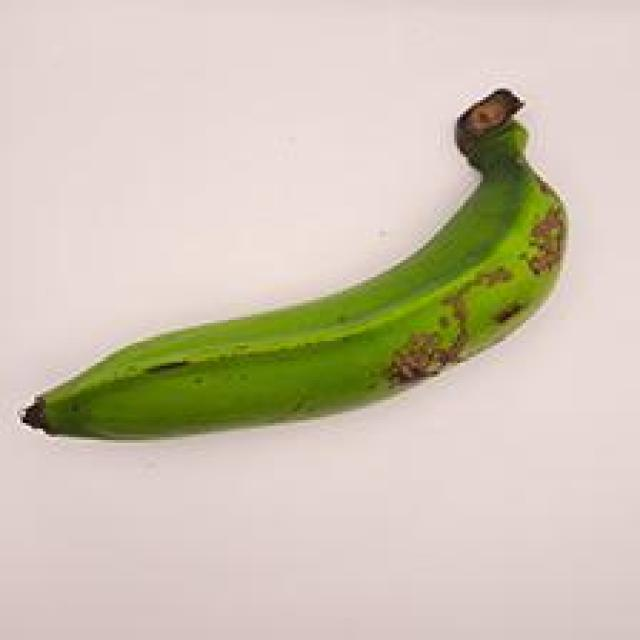Raw: (0, 80, 594, 477)
